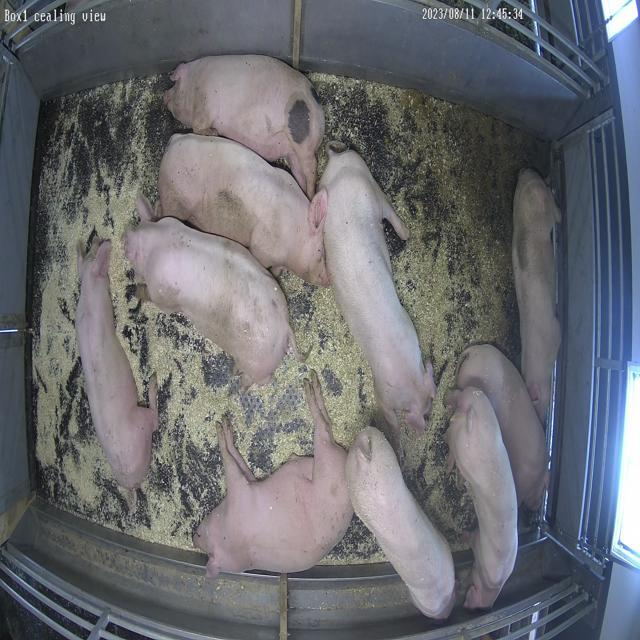Dirt: (390, 88, 540, 320)
Pig: (320, 143, 436, 434), (124, 196, 295, 388), (194, 376, 354, 580), (158, 133, 330, 286), (164, 54, 325, 198), (346, 428, 456, 620), (76, 241, 157, 490), (448, 387, 519, 610), (458, 345, 549, 512), (513, 169, 563, 422)
